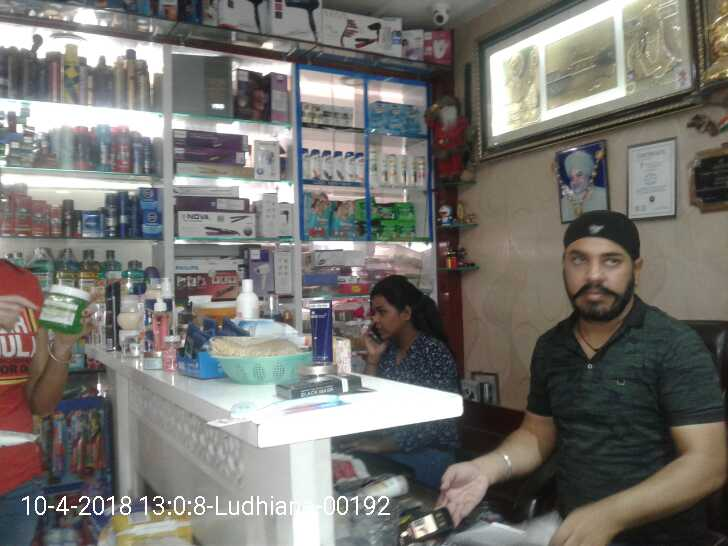gillete: (74, 209, 81, 238)
venus: (373, 103, 419, 128)
